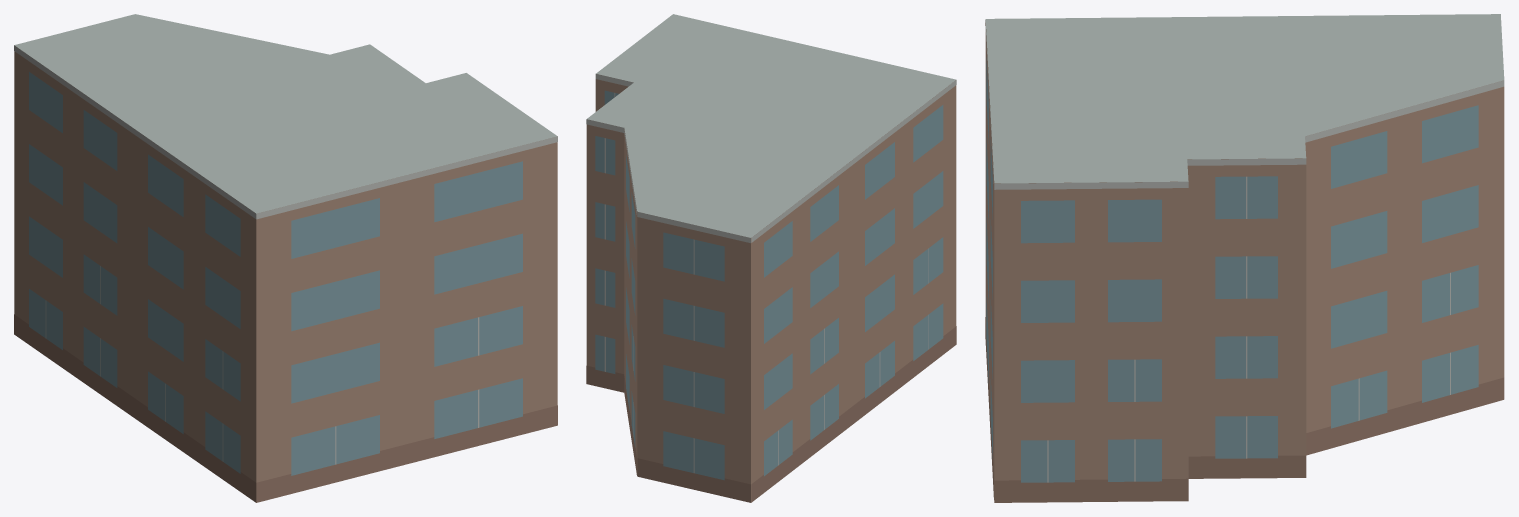
The model's file is residential-153884dd-b0c3-4dde-a604-6e83b4c4a6e5.glb.
The picture shows the model from 3 angles, left to right: view 1: azimuth 30°, elevation 25°; view 2: azimuth 150°, elevation 25°; view 3: azimuth 270°, elevation 25°; orthographic projection. The views are drawn at different scales.
Parts seen in each view (by area): view 1: residential-153884dd-b0c3-4dde-a604-6e83b4c4a6e5.tmp; view 2: residential-153884dd-b0c3-4dde-a604-6e83b4c4a6e5.tmp; view 3: residential-153884dd-b0c3-4dde-a604-6e83b4c4a6e5.tmp.
Part boxes in pixels (left/top/right/bottom): residential-153884dd-b0c3-4dde-a604-6e83b4c4a6e5.tmp: left=14, top=14, right=557, bottom=502; residential-153884dd-b0c3-4dde-a604-6e83b4c4a6e5.tmp: left=586, top=14, right=956, bottom=502; residential-153884dd-b0c3-4dde-a604-6e83b4c4a6e5.tmp: left=985, top=14, right=1504, bottom=502.
Bounding box in the file's own units: 13.89 × 12.2 × 17.97.
